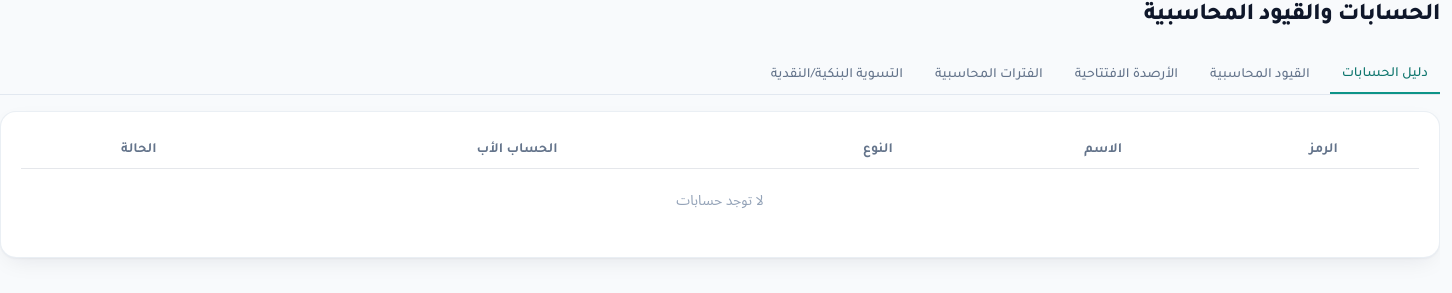
Scenario: AccountingPage - Opening Balances / Fiscal Periods tabs › Opening Balances tab renders an existing balance with its lines and a reverse action
Click the button "الأرصدة الافتتاحية".
click(1126, 75)  # box [1063, 56, 1190, 94]
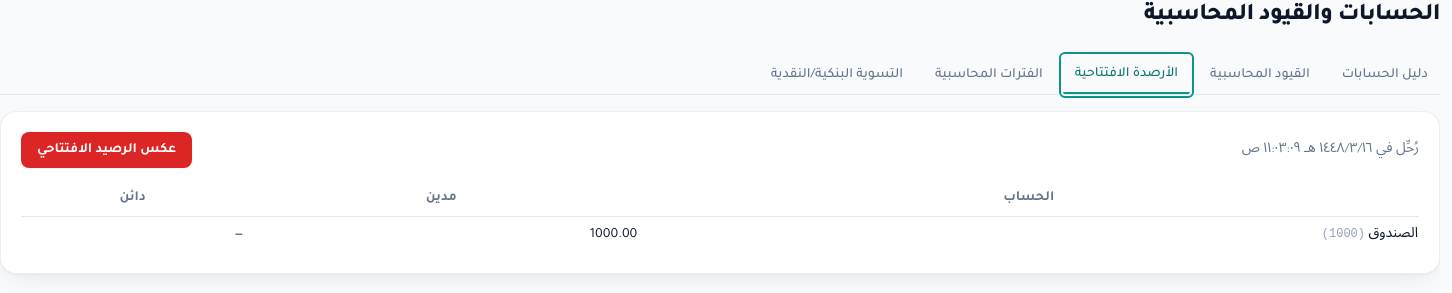
Expected: the text "الصندوق" is shown, [1368, 228, 1418, 242]
Expected: the button "عكس الرصيد الافتتاحي" is shown, [21, 132, 192, 168]
